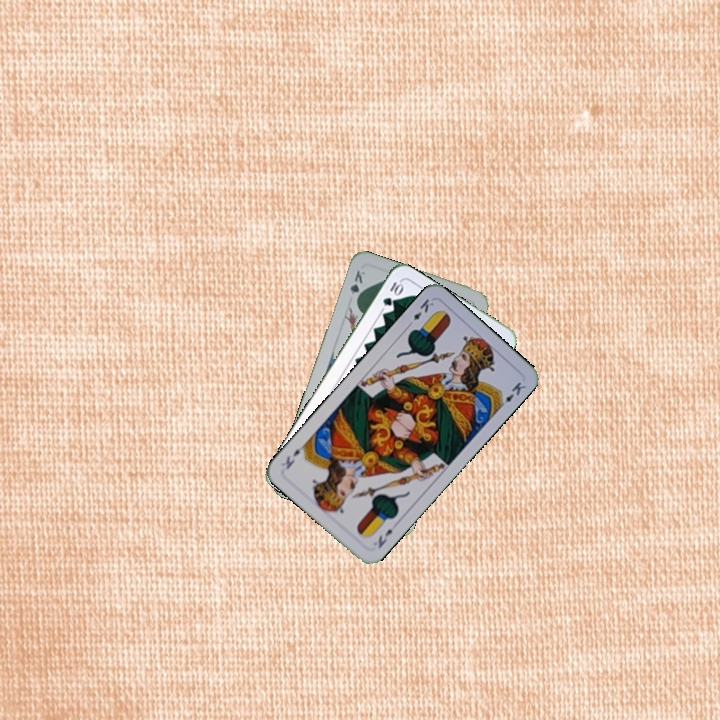EK: (403, 295, 437, 330), (374, 525, 395, 551)
G10: (378, 278, 405, 308)
GK: (345, 266, 368, 306)
